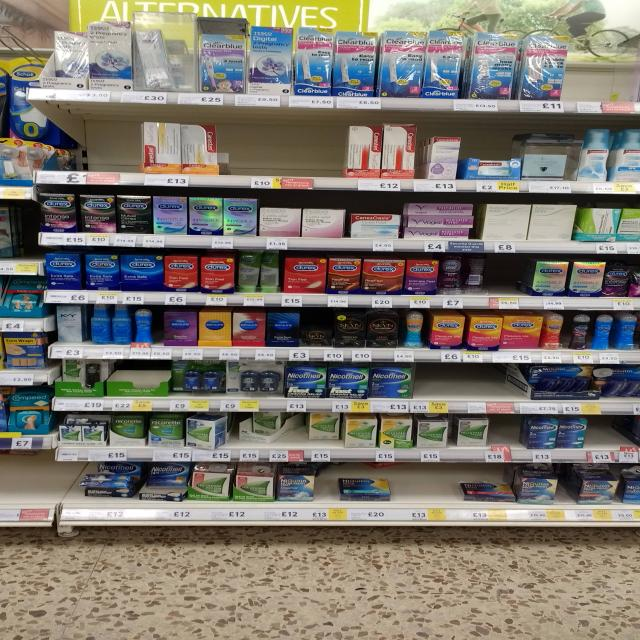empty: (213, 113, 336, 182), (51, 118, 145, 173), (563, 42, 636, 107), (3, 447, 74, 502), (414, 361, 518, 397), (388, 463, 459, 499), (7, 207, 42, 261), (591, 413, 640, 451), (482, 254, 526, 293), (489, 415, 522, 451)
